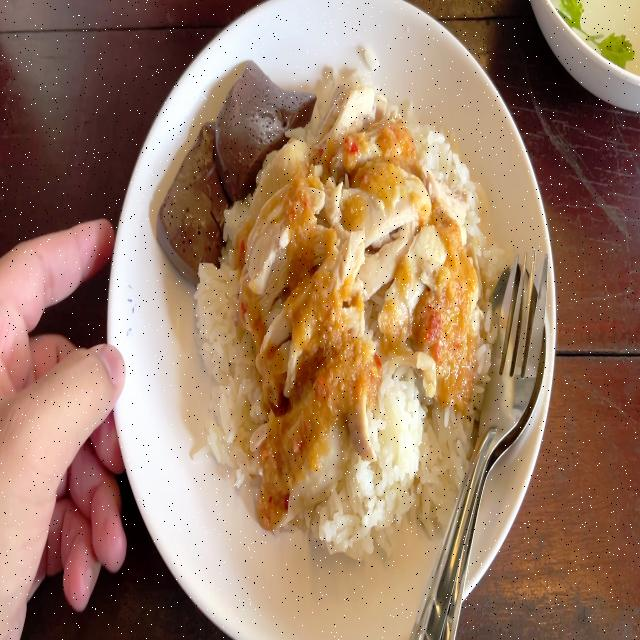boiled_chicken: (241, 143, 463, 456)
boiled_chicken_blood_jelly: (157, 127, 236, 290), (214, 63, 310, 183)
chicken_rice: (158, 49, 504, 550)
